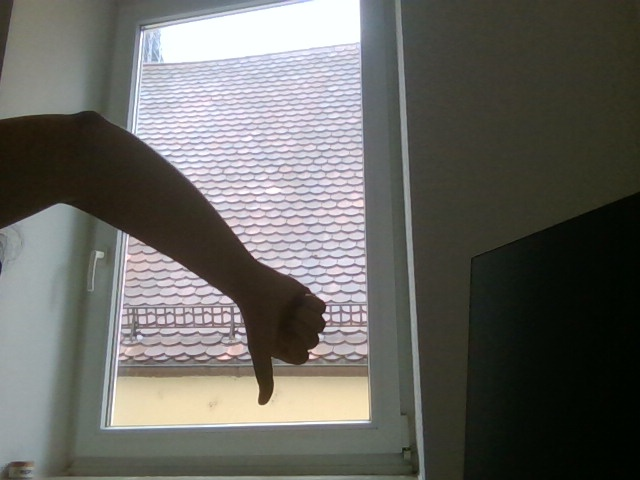Thumbs down: (232, 227, 342, 414)
